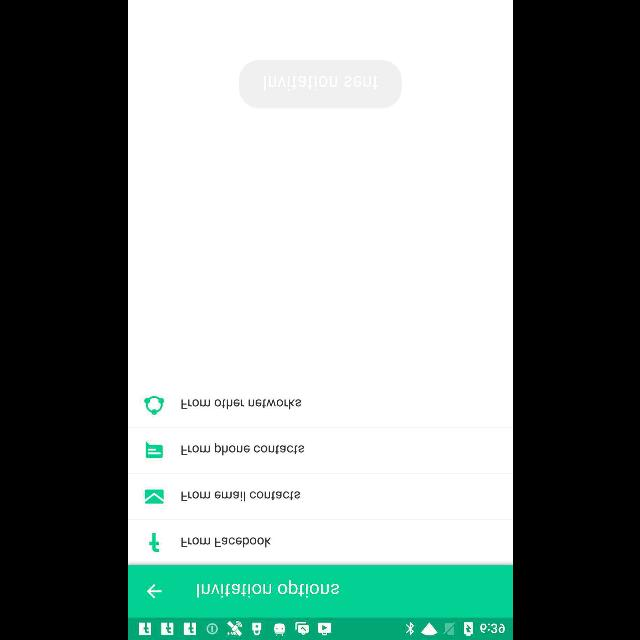icon: (144, 440, 162, 458), (144, 489, 164, 503), (148, 532, 160, 552), (146, 584, 162, 598)
image: (143, 396, 163, 414)
text: (195, 580, 338, 598), (180, 442, 304, 456), (181, 398, 301, 409), (180, 491, 300, 502), (180, 536, 270, 548)
toolbar: (128, 565, 512, 617)
uppertaskbar: (128, 617, 512, 639)
